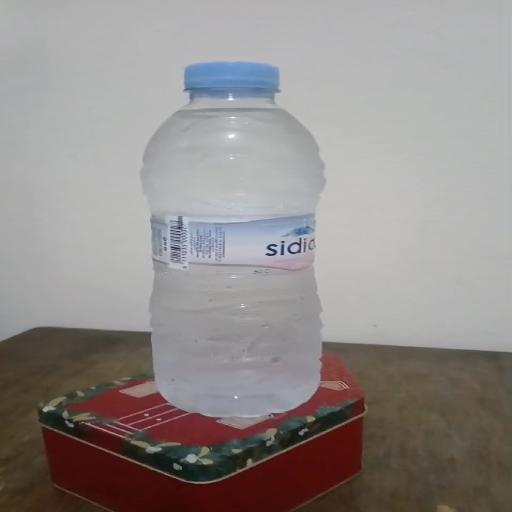bouteille conformite: (136, 55, 314, 243), (150, 258, 320, 416), (313, 202, 347, 314), (296, 69, 342, 142)
